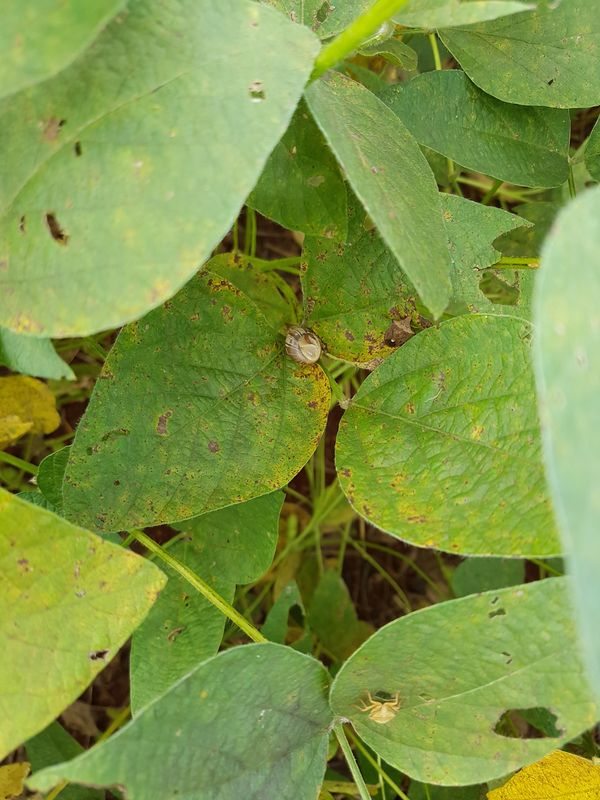Euschistus_heros_adulto: (372, 303, 428, 359)
Euschistus_heros_ninfa: (344, 678, 414, 744)
Gastropoda: (263, 313, 333, 385)
